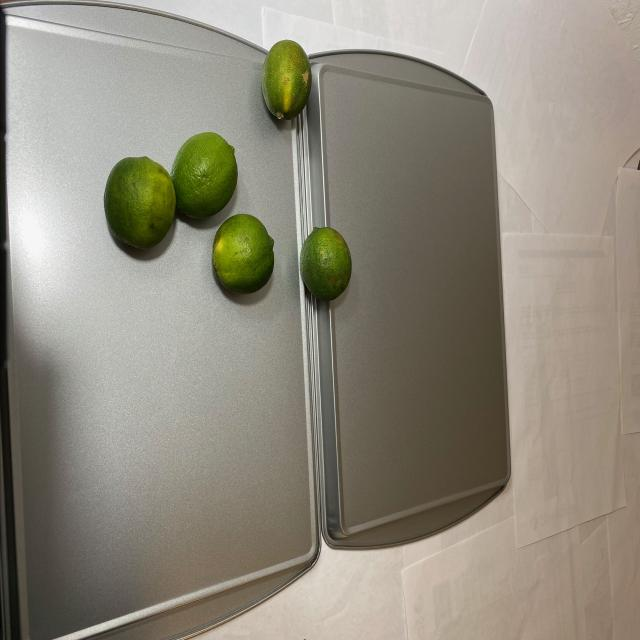lemon: (102, 133, 360, 312), (264, 37, 310, 125)
